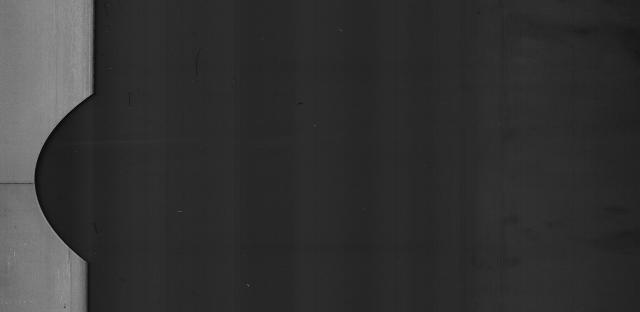welding_line: (3, 171, 52, 192)
